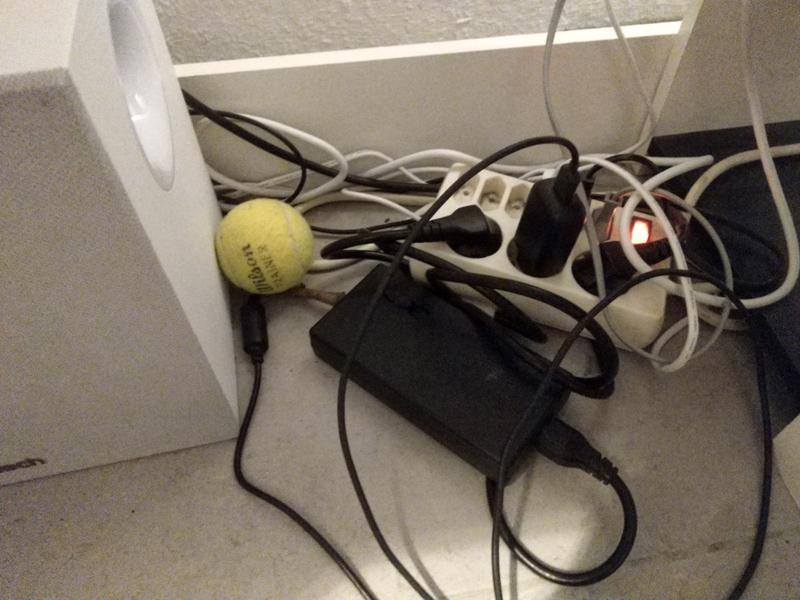Tennisball: (215, 194, 319, 297)
